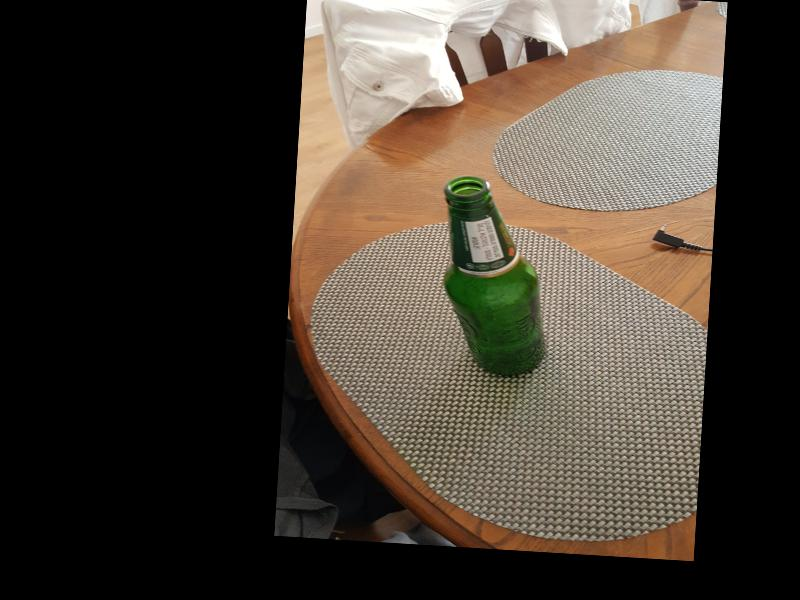Beer: (441, 177, 556, 378)
